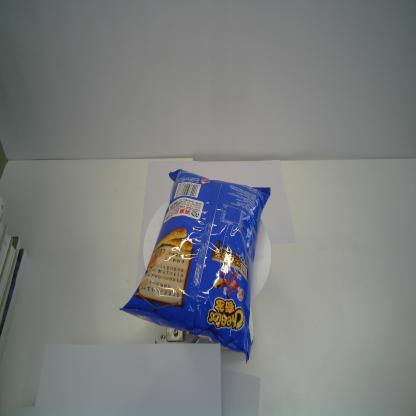Puffed Food: (118, 166, 273, 368)
